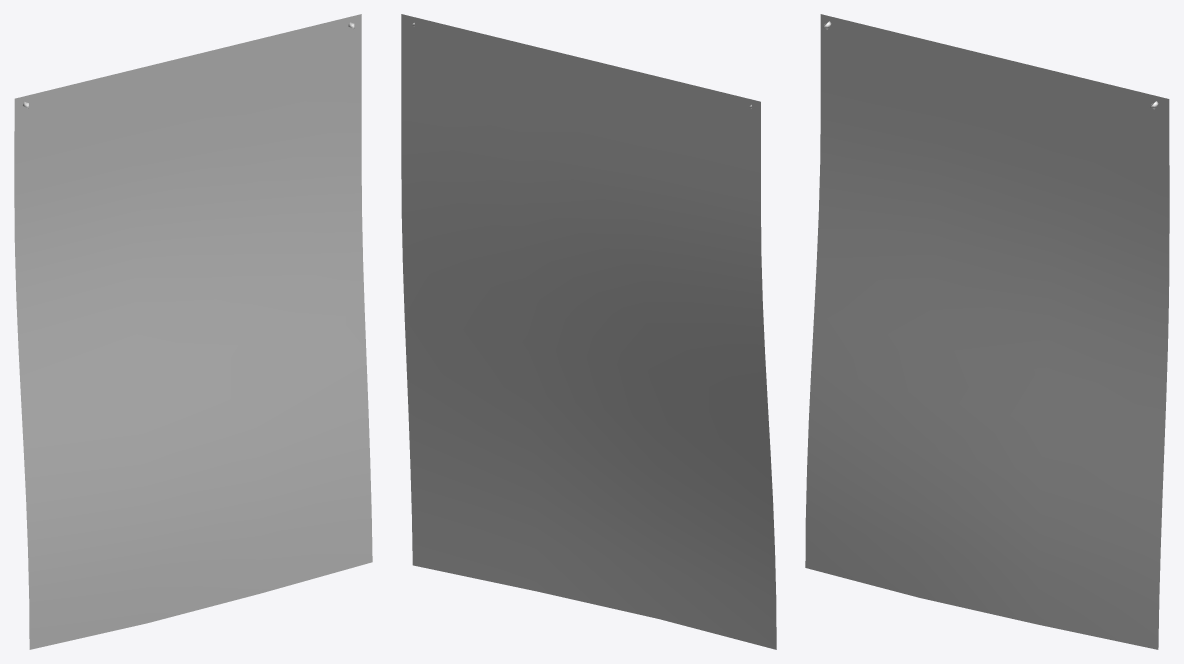
Rendered from FNaF1Poster.fbx.
3 views of the same model, side by side, from view 1: azimuth 30°, elevation 25°; view 2: azimuth 150°, elevation 25°; view 3: azimuth 330°, elevation 25° (orthographic). The views are drawn at different scales.
Parts seen in each view (by area): view 1: Plane.018; view 2: Plane.018; view 3: Plane.018.
Part boxes in pixels (x1,y1,x2,y2): Plane.018: [14, 14, 372, 649]; Plane.018: [401, 14, 776, 649]; Plane.018: [805, 14, 1169, 649].
Size of the model in its own units: 35.1 by 52.19 by 3.22.
